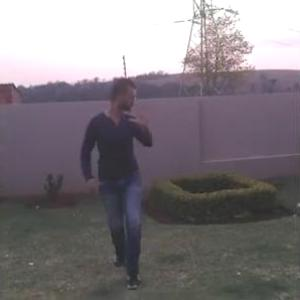follow_hand: (132, 96, 158, 128)
